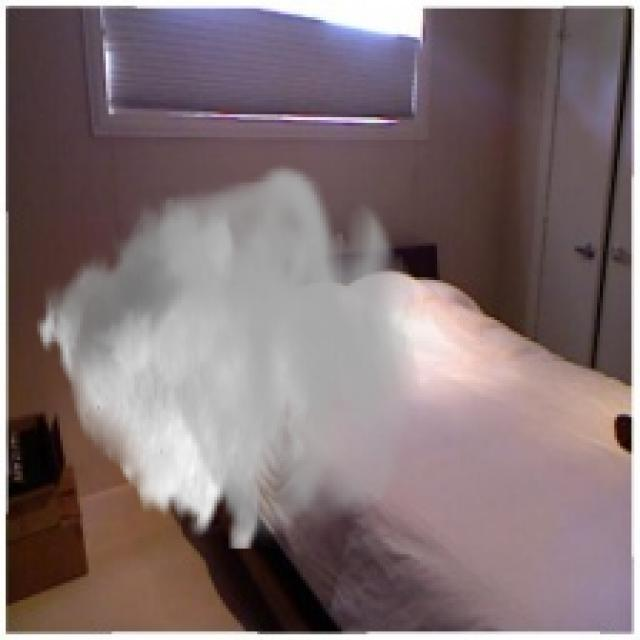Smoke: (34, 160, 420, 549)
